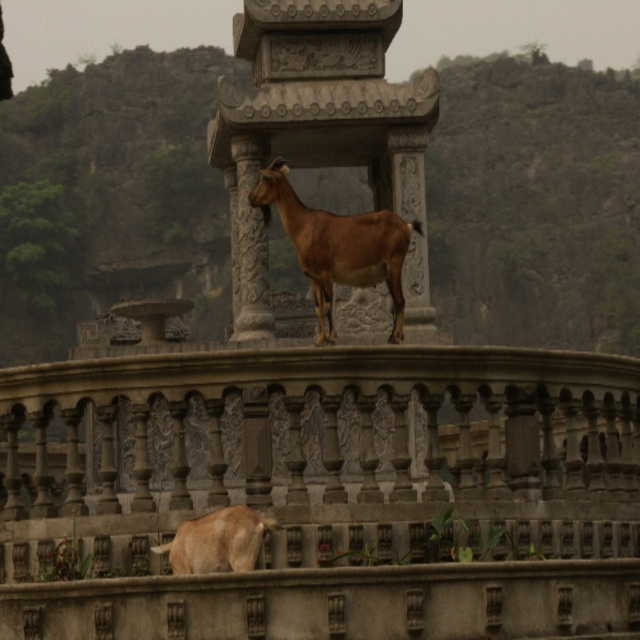Goat: (246, 148, 414, 344)
